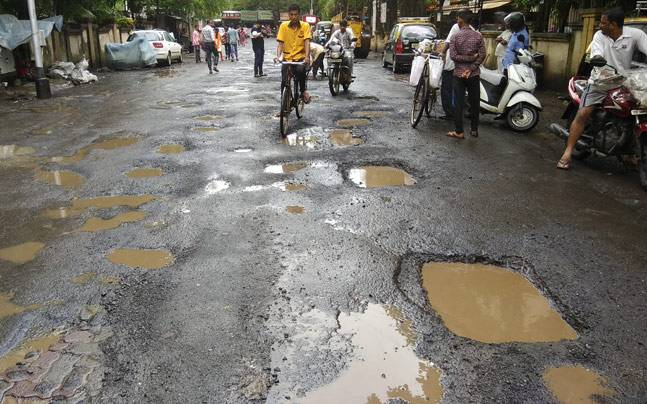pothole: (401, 229, 582, 361), (329, 148, 423, 199), (98, 223, 183, 274), (64, 178, 159, 215), (92, 117, 156, 147), (141, 134, 201, 159), (201, 75, 255, 100)
